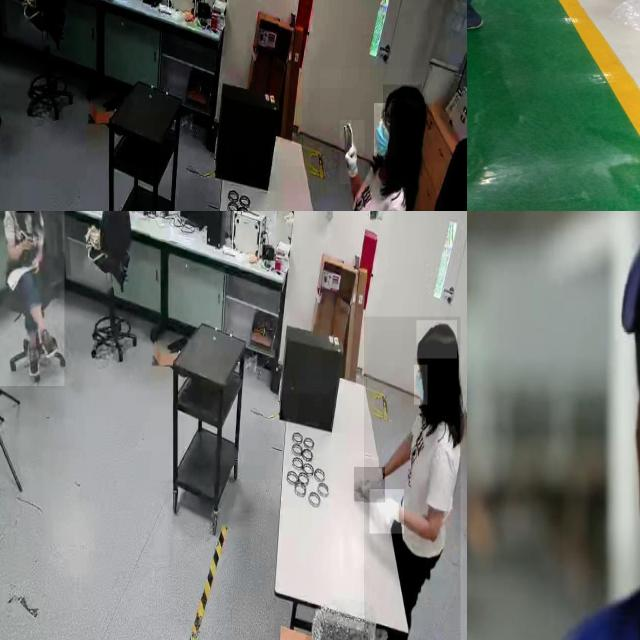face_mask: (374, 103, 396, 156), (414, 364, 428, 404)
hand_glove: (340, 120, 364, 184), (370, 489, 404, 534), (354, 467, 385, 502)
hand_noglove: (31, 254, 41, 274), (22, 233, 34, 249)
head_nohelmet: (417, 320, 458, 360), (383, 85, 423, 118)
person: (364, 316, 461, 640), (320, 68, 427, 211), (0, 211, 65, 387)
shoes: (38, 327, 58, 361), (26, 339, 42, 381), (467, 0, 488, 31)
